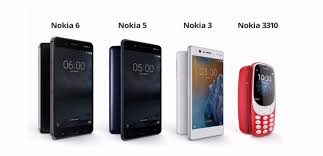nokia: (50, 33, 96, 140), (183, 44, 228, 143), (120, 38, 162, 141), (235, 58, 277, 140)
